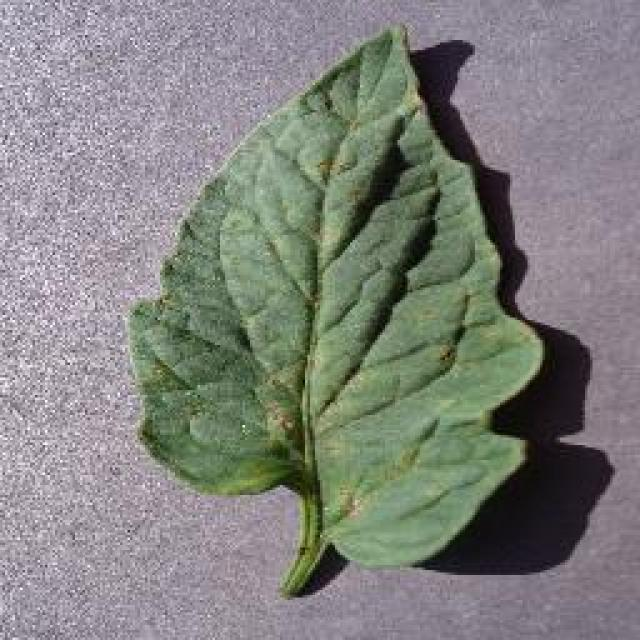Tomato Septoria spot leaf: (129, 26, 541, 569)
